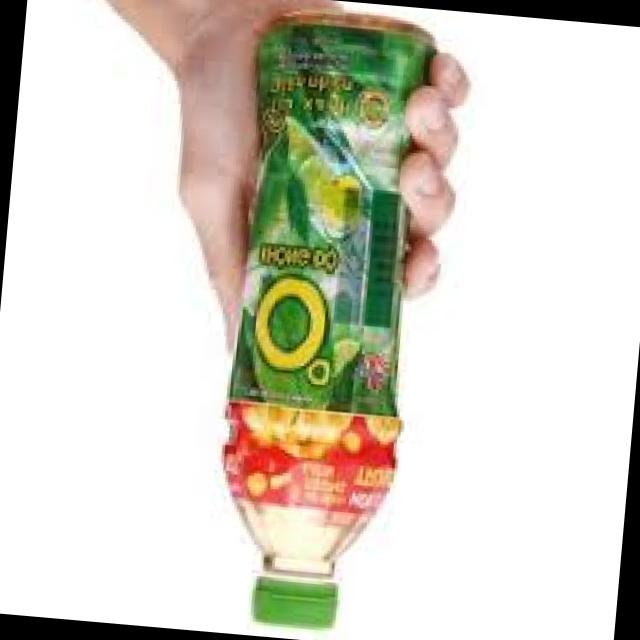tra xanh khong do: (192, 4, 456, 640)
